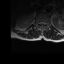CCS_normal: (41, 19, 43, 29)
LFS_normal: (45, 20, 47, 26)
LLS_normal: (43, 19, 45, 27)
RFS_normal: (37, 19, 39, 26)
RLS_normal: (39, 19, 41, 26)
